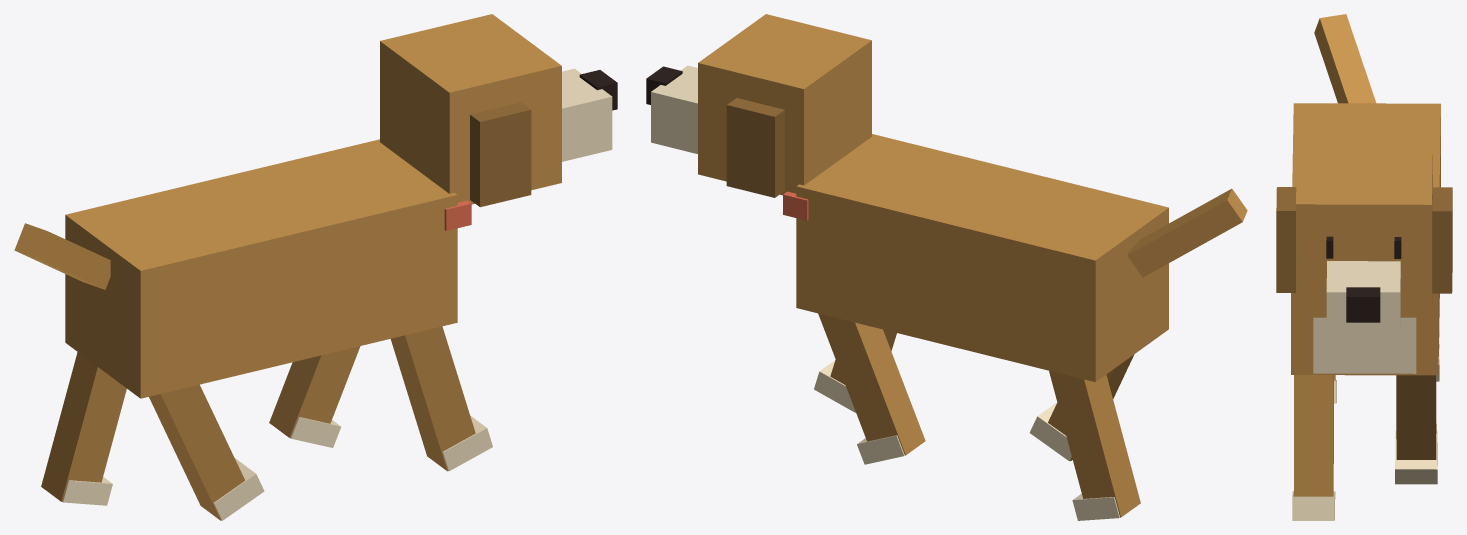
The model's file is pet_jamie.glb.
The picture shows the model from 3 angles, left to right: view 1: azimuth 30°, elevation 25°; view 2: azimuth 150°, elevation 25°; view 3: azimuth 270°, elevation 25°; orthographic projection. The views are drawn at different scales.
Parts seen in each view (by area): view 1: Box1, Box3, Box18, Box16, Box14, Box9, Box12, Box6, Box10, Box15, Box17, Box19 (+2 smaller); view 2: Box1, Box3, Box18, Box12, Box8, Box10, Box6, Box15, Box19, Box13, Box17, Box14; view 3: Box3, Box1, Box6, Box16, Box2, Box12, Box10, Box8, Box9, Box7, Box13, Box17.
Part boxes in pixels (left/top/right/bottom): Box1: left=65, top=139, right=457, bottom=398; Box3: left=380, top=14, right=561, bottom=204; Box18: left=41, top=352, right=126, bottom=501; Box16: left=390, top=326, right=475, bottom=471; Box14: left=149, top=384, right=244, bottom=520; Box9: left=470, top=102, right=531, bottom=207; Box12: left=269, top=346, right=360, bottom=437; Box6: left=562, top=68, right=612, bottom=161; Box10: left=14, top=223, right=110, bottom=289; Box15: left=214, top=458, right=264, bottom=520; Box17: left=442, top=415, right=492, bottom=471; Box19: left=62, top=477, right=112, bottom=505; Box1: left=796, top=134, right=1168, bottom=381; Box3: left=698, top=14, right=871, bottom=195; Box18: left=1049, top=370, right=1140, bottom=517; Box12: left=818, top=313, right=925, bottom=455; Box8: left=726, top=98, right=784, bottom=197; Box10: left=1127, top=188, right=1247, bottom=277; Box6: left=651, top=65, right=697, bottom=153; Box15: left=1029, top=402, right=1071, bottom=460; Box19: left=1072, top=493, right=1119, bottom=520; Box13: left=857, top=435, right=904, bottom=464; Box17: left=814, top=360, right=855, bottom=412; Box14: left=1048, top=354, right=1134, bottom=461; Box3: left=1296, top=151, right=1432, bottom=317; Box1: left=1291, top=103, right=1440, bottom=375; Box6: left=1326, top=261, right=1400, bottom=343; Box16: left=1293, top=375, right=1333, bottom=496; Box2: left=1313, top=317, right=1416, bottom=373; Box12: left=1396, top=375, right=1436, bottom=459; Box10: left=1314, top=14, right=1376, bottom=103; Box8: left=1432, top=187, right=1452, bottom=293; Box9: left=1276, top=187, right=1296, bottom=292; Box7: left=1346, top=287, right=1380, bottom=322; Box13: left=1395, top=431, right=1437, bottom=484; Box17: left=1292, top=491, right=1335, bottom=520.
Bounding box in the file's own units: 1.19 × 0.7137 × 0.3107.
